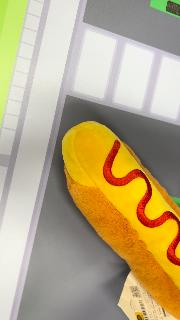hotdog: (61, 120, 179, 318)
